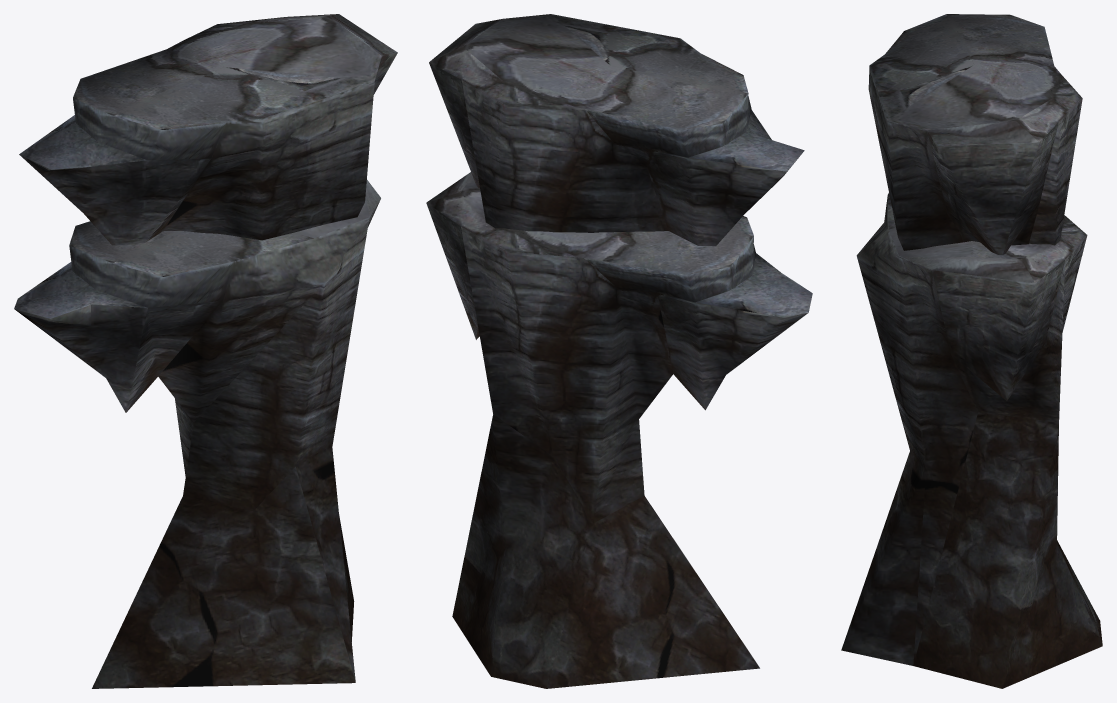
File: GWZ_Stone_05_LOD2.FBX
3 renders of one model, left to right at view 1: azimuth 30°, elevation 25°; view 2: azimuth 150°, elevation 25°; view 3: azimuth 270°, elevation 25°, orthographic. The views are drawn at different scales.
Visible parts, largest first — view 1: GWZ_Stone_05_LOD2; view 2: GWZ_Stone_05_LOD2; view 3: GWZ_Stone_05_LOD2.
Part boxes in pixels (bbox=[...]): GWZ_Stone_05_LOD2: bbox=[14, 14, 397, 688]; GWZ_Stone_05_LOD2: bbox=[426, 14, 812, 688]; GWZ_Stone_05_LOD2: bbox=[841, 14, 1102, 688].
Size of the model in its own units: 6518 by 10106 by 4278.
